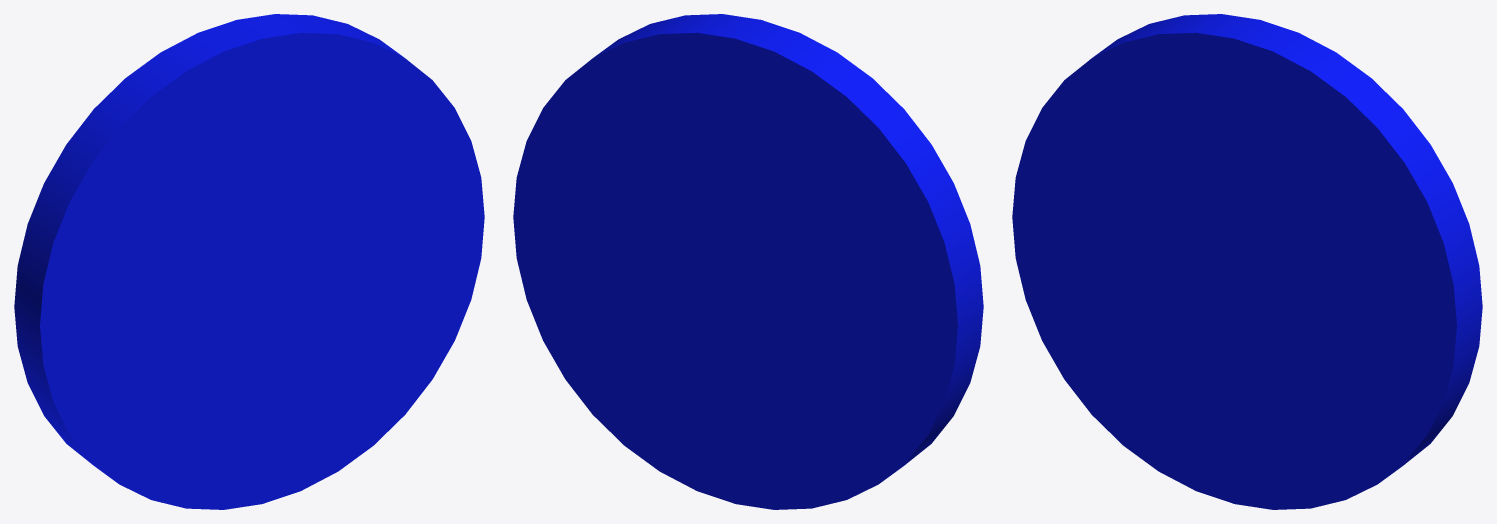
File: oggetto1.fbx
The picture shows the model from 3 angles, left to right: view 1: azimuth 30°, elevation 25°; view 2: azimuth 150°, elevation 25°; view 3: azimuth 330°, elevation 25°; orthographic projection.
Parts seen in each view (by area): view 1: Cylinder; view 2: Cylinder; view 3: Cylinder.
Part boxes in pixels (x1,y1,x2,y2): Cylinder: (14,14,484,509); Cylinder: (513,14,983,509); Cylinder: (1012,14,1482,509).
Bounding box in the file's own units: 200 × 200 × 20.
